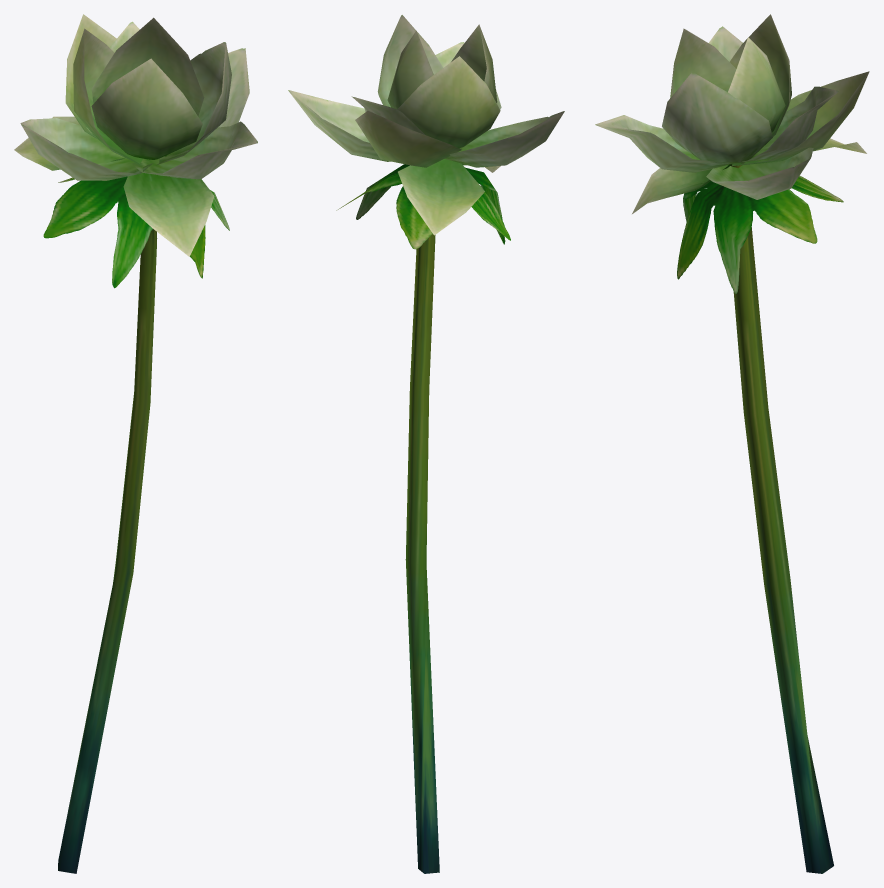
File: environment_Tree_hehua_001_b.FBX
3 views of the same model, side by side, from view 1: azimuth 30°, elevation 25°; view 2: azimuth 150°, elevation 25°; view 3: azimuth 270°, elevation 25° (orthographic). The views are drawn at different scales.
Visible parts, largest first — view 1: environment_Tree_hehua_001_b; view 2: environment_Tree_hehua_001_b; view 3: environment_Tree_hehua_001_b.
Boxes of the visible parts, bbox=[...] form: environment_Tree_hehua_001_b: bbox=[14, 14, 257, 873]; environment_Tree_hehua_001_b: bbox=[288, 15, 564, 873]; environment_Tree_hehua_001_b: bbox=[595, 14, 869, 873].
Size of the model in its own units: 150 by 475 by 138.
Materials: 1 (1 with a texture image).
